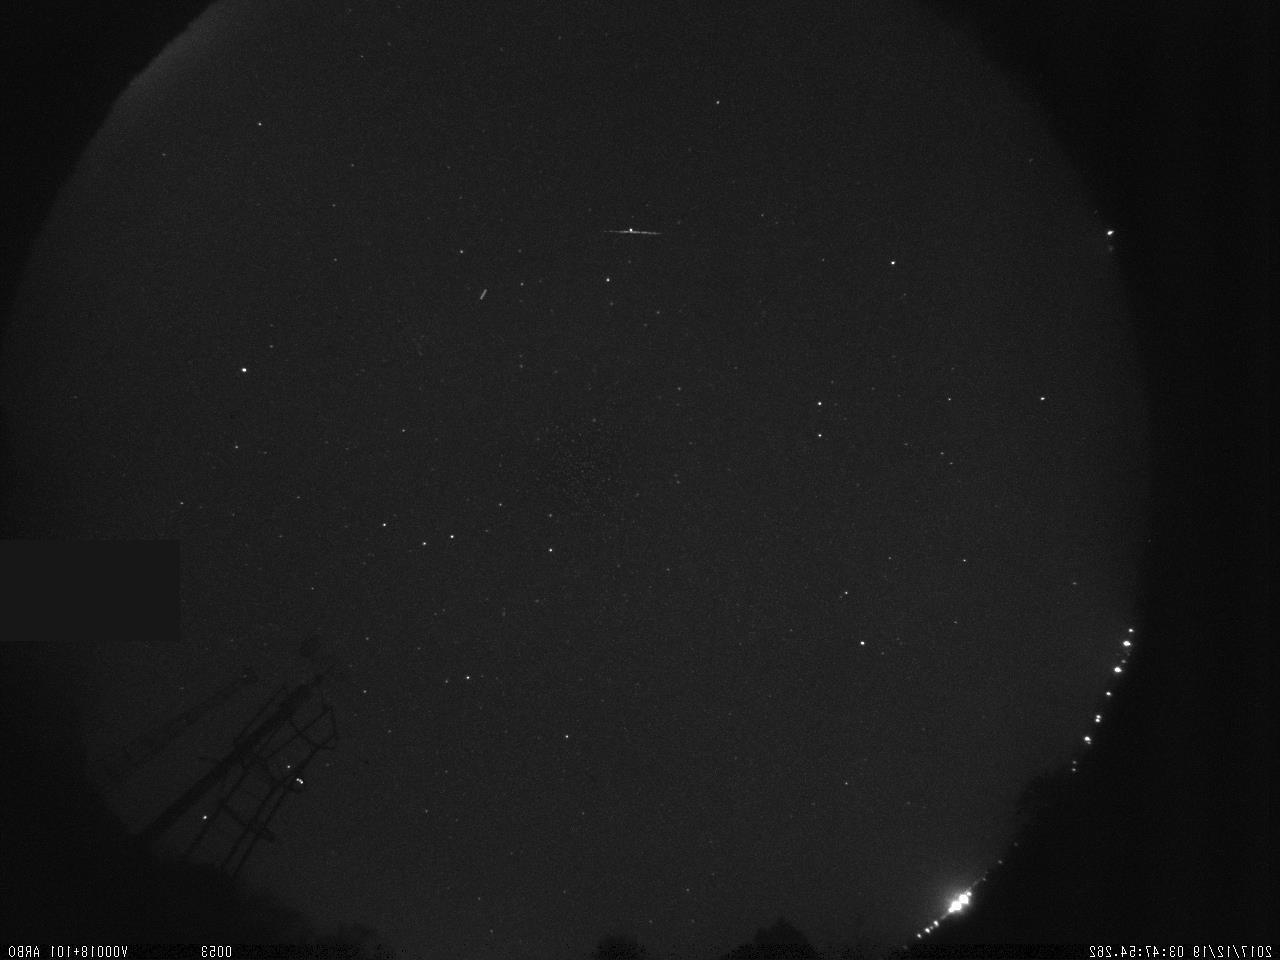meteor: (595, 220, 668, 242)
